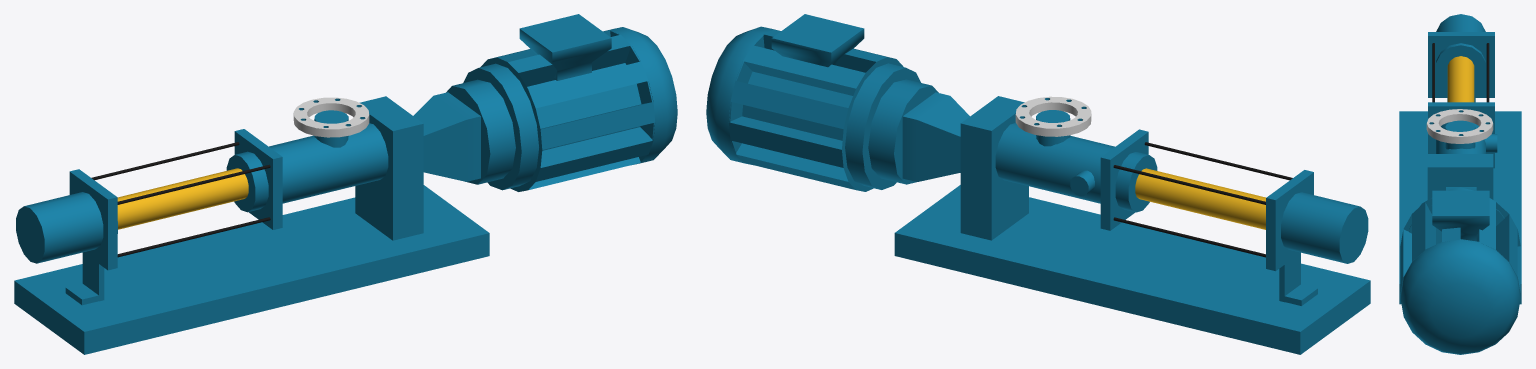
File: sludge_pump.obj
3 renders of one model, left to right at view 1: azimuth 30°, elevation 25°; view 2: azimuth 150°, elevation 25°; view 3: azimuth 270°, elevation 25°, orthographic. The views are drawn at different scales.
Parts seen in each view (by area): view 1: ___, __.4, __, ___.2, __.2, __.3, ___.1, ___.7, __.6, __.5, ___.4, ___.3 (+4 smaller); view 2: ___, __.4, __, ___.2, __.2, __.3, ___.1, __.6, __.5, ___.7, ___.3, ___.4 (+5 smaller); view 3: __, ___, __.4, __.2, ___.7, ___.2, ___.4, __.3, ___.3, __.1, __.8, __.5 (+1 smaller).
Part boxes in pixels (x1,y1,x2,y2): ___: (14,185,489,354); __.4: (314,30,655,191); __: (226,27,677,212); ___.2: (355,96,423,240); __.2: (117,97,369,229); __.3: (16,192,117,263); ___.1: (413,92,480,181); ___.7: (519,14,611,80); __.6: (446,79,515,184); __.5: (463,63,538,190); ___.4: (69,169,117,270); ___.3: (234,129,282,229); ___: (894,185,1370,354); __.4: (729,29,1070,191); __: (706,26,1157,212); ___.2: (960,96,1028,240); __.2: (1015,96,1265,229); __.3: (1281,192,1368,263); ___.1: (902,92,969,181); __.6: (868,79,938,184); __.5: (845,63,920,189); ___.7: (771,14,864,67); ___.3: (1100,129,1148,230); ___.4: (1266,170,1313,271); __: (1400,122,1520,354); ___: (1399,111,1521,304); __.4: (1400,120,1520,295); __.2: (1426,56,1493,143); ___.7: (1432,190,1489,241); ___.2: (1427,154,1493,199); ___.4: (1428,32,1494,97); __.3: (1436,14,1485,87); ___.3: (1428,102,1494,168); __.1: (1429,110,1497,152); __.8: (1486,43,1489,102); __.5: (1409,189,1504,233).
Bounding box in the file's own units: 1028 × 264 × 198.
